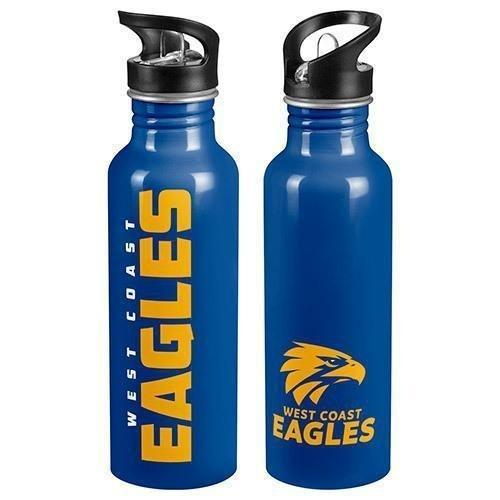gym bottle: (102, 4, 243, 498), (260, 4, 398, 497)
